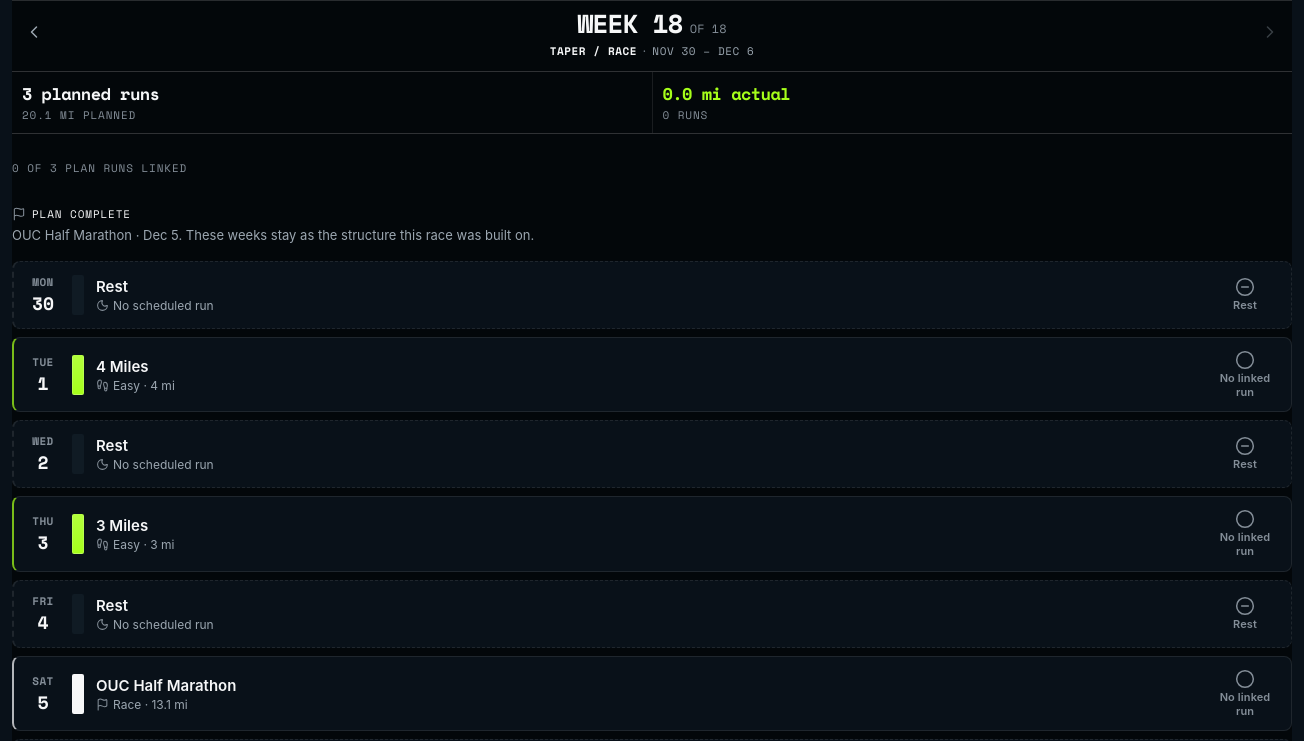
Plan after the race › keeps every earlier week browsable, and offers the way back
The width and height of the screenshot is (1304, 741).
Click the button named "Previous week": (34, 34) [12,12,56,56]
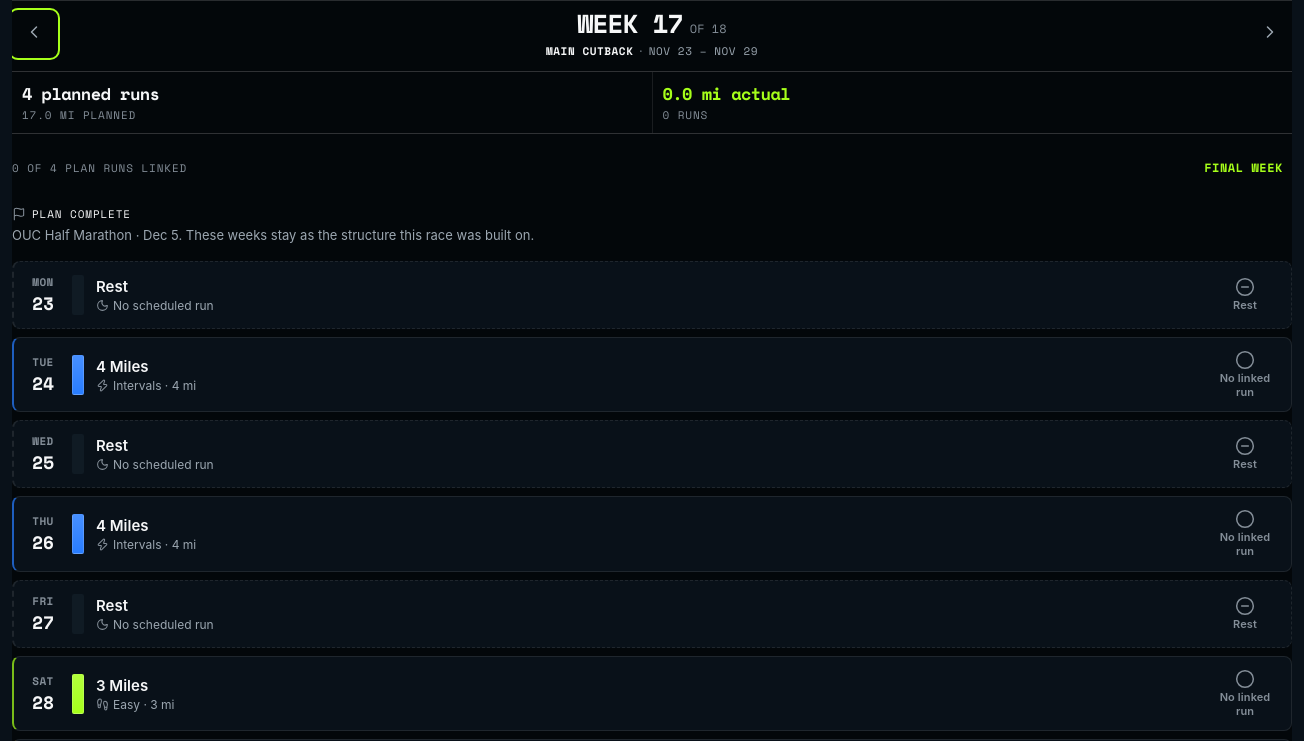
Click the button named "Previous week": (34, 34) [12,12,56,56]
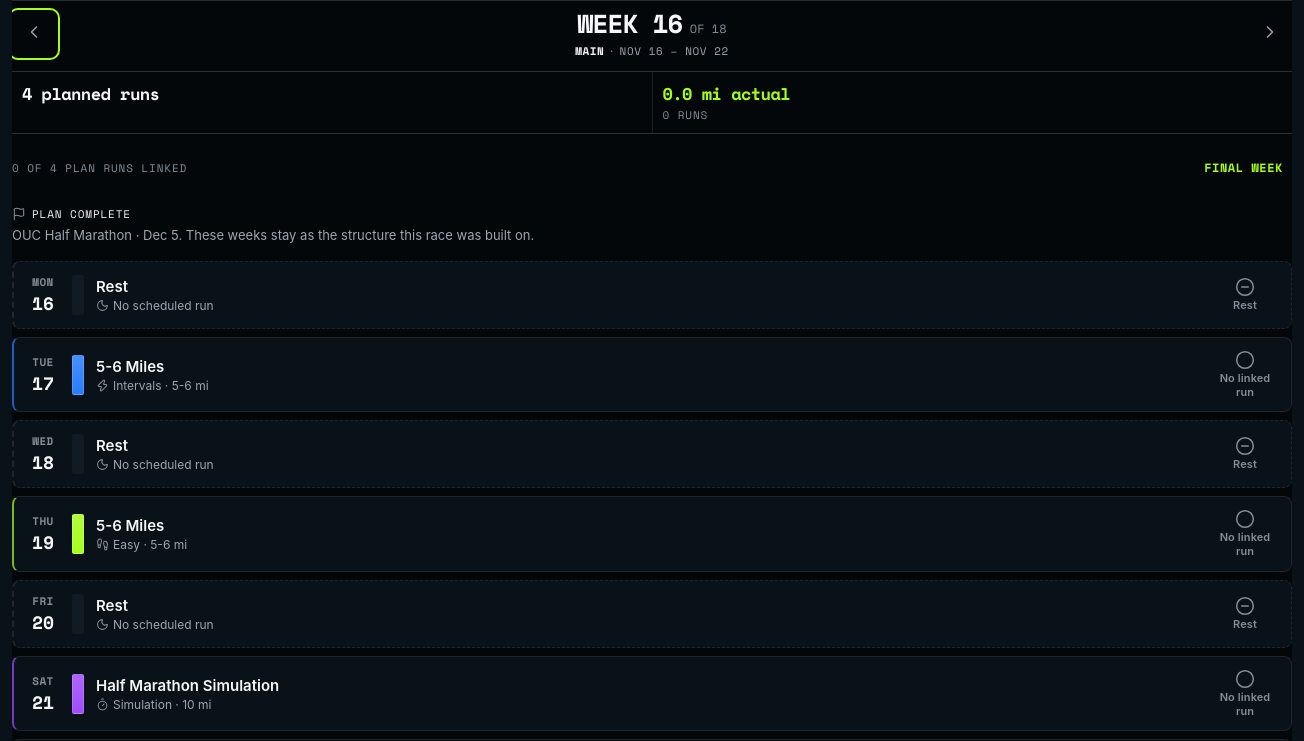
Expected: the element named "Plan lifecycle" is shown, [12,206,534,243]
Result: the heading reads "Week 16 of 18" at [577,4,726,42]
Result: the element named "Week 16 plan and actual context" is shown at [12,71,1292,134]
Click the button "Final Week": (1244, 168) [1195,146,1292,190]
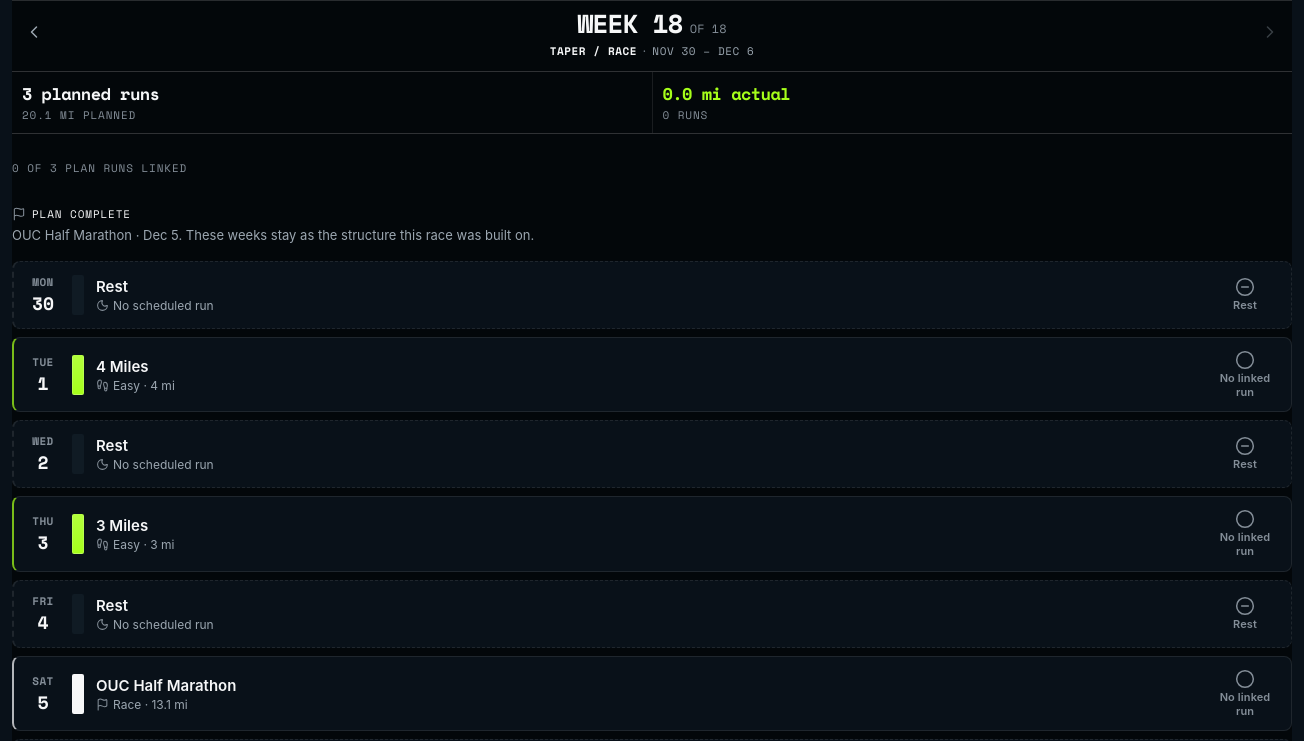
Result: the heading reads "Week 18 of 18" at [577,4,726,42]
Result: the button "Final Week" is gone
